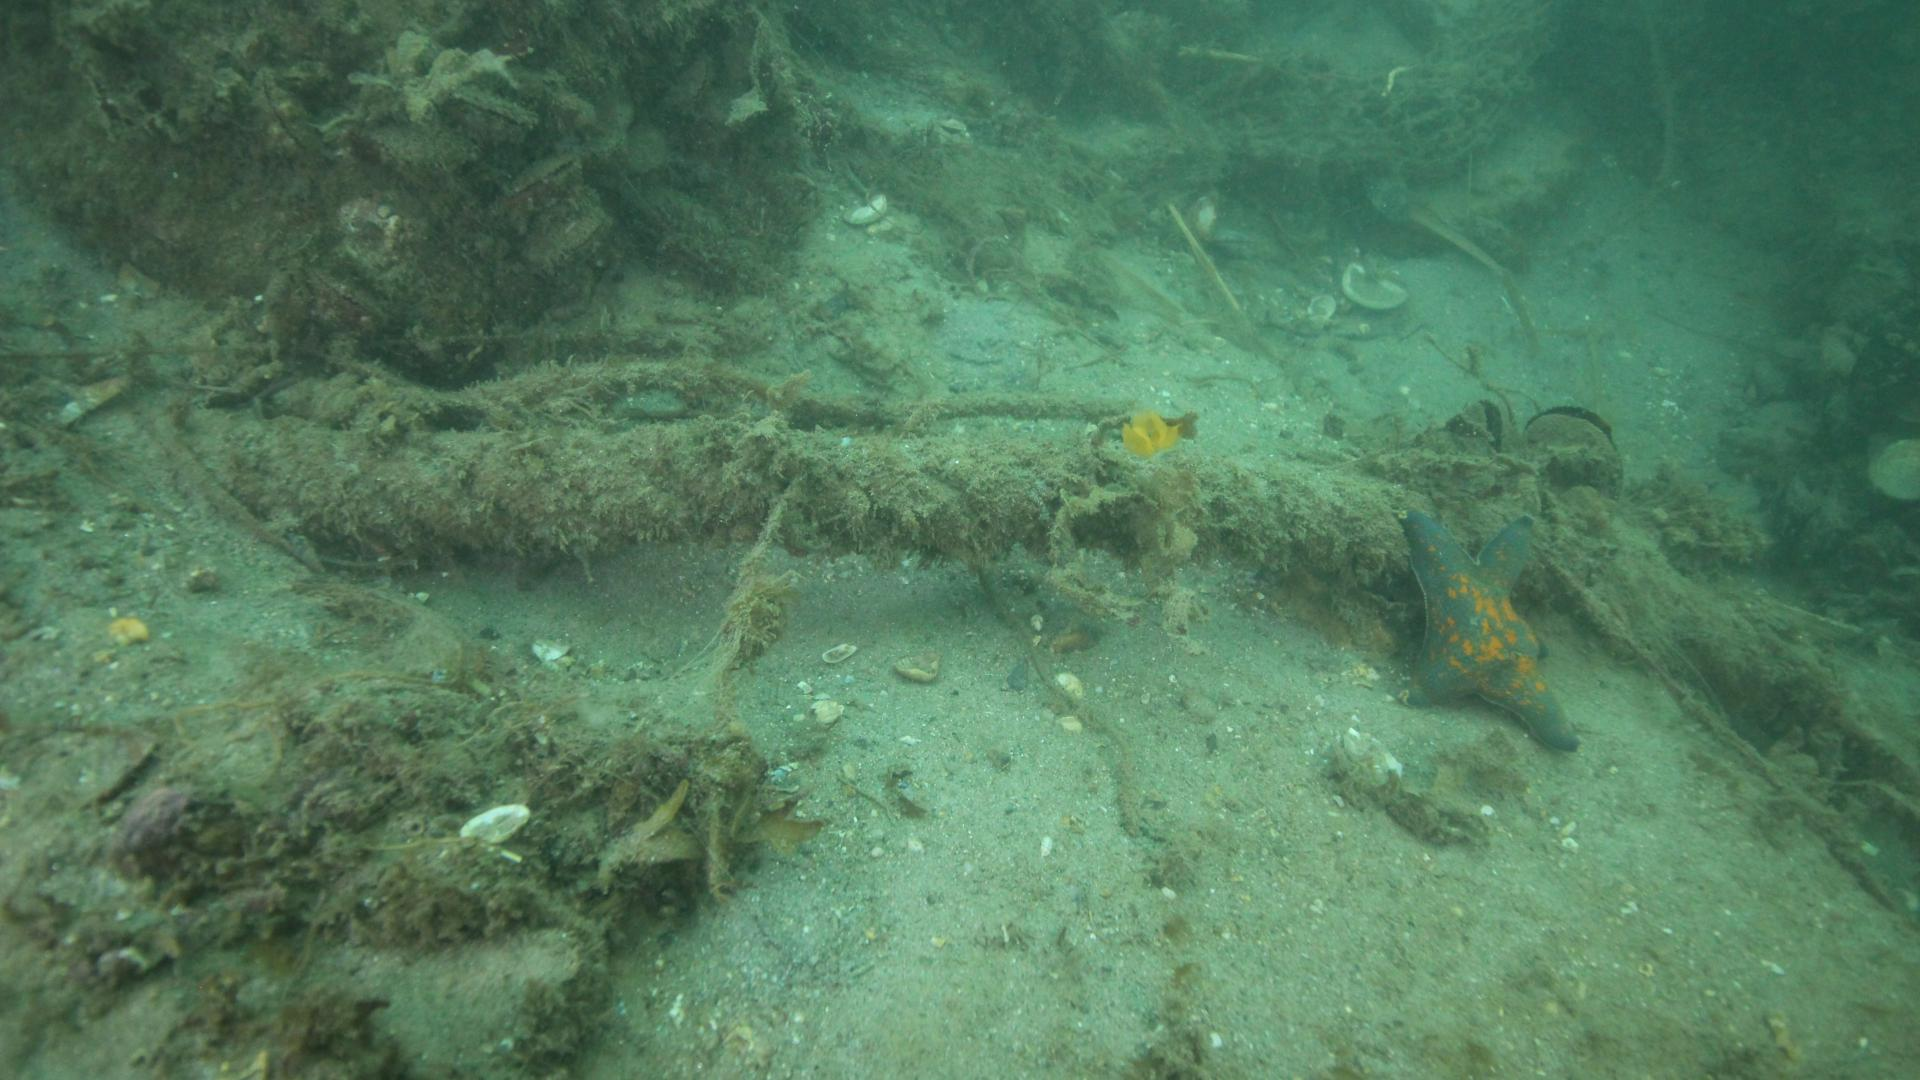rope: (174, 407, 1412, 589)
